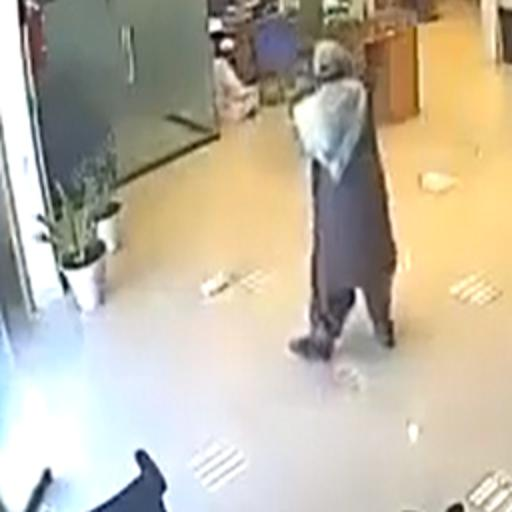Humans: (285, 25, 428, 368)
